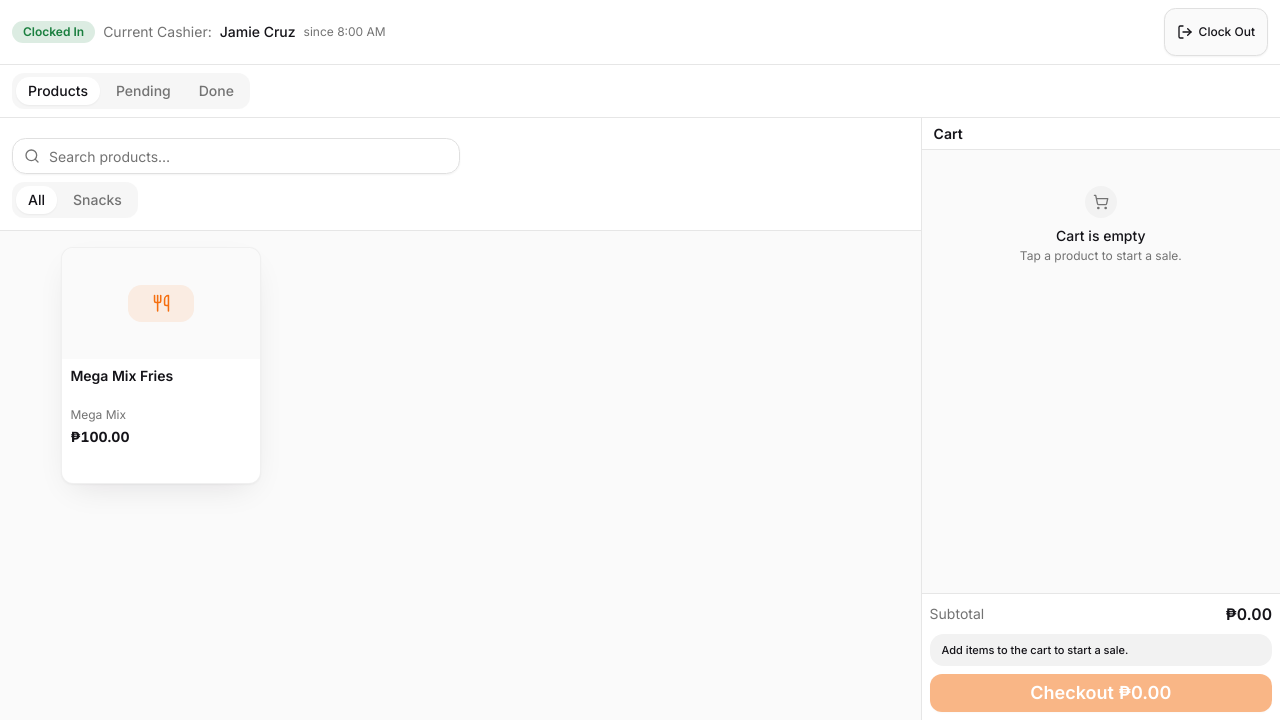
it: TerminalPage — flavor slot selection › renders three selectors for a three-slot variant
Click the text "Mega Mix Fries" at (122, 376), box [70,367,173,384]
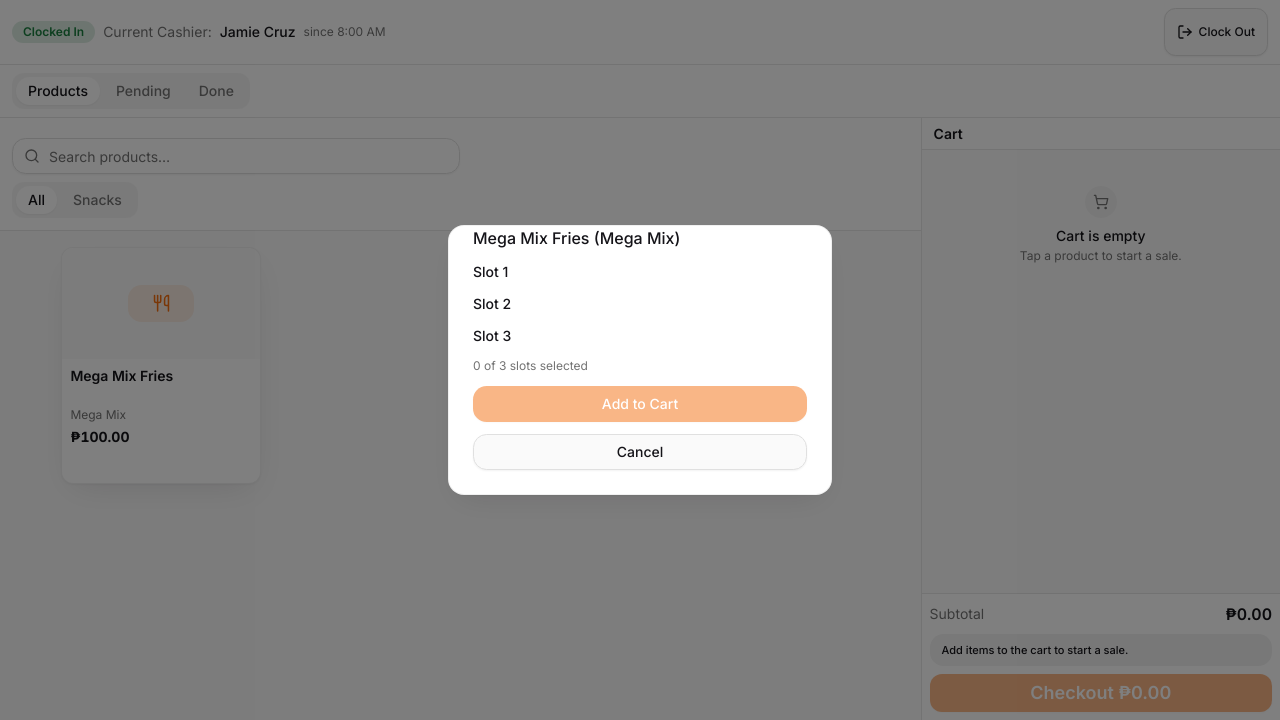
Check: the text "Slot 1" is shown, box [473,263,508,280]
Check: the text "Slot 2" is shown, box [473,295,511,312]
Check: the text "Slot 3" is shown, box [473,327,511,344]
